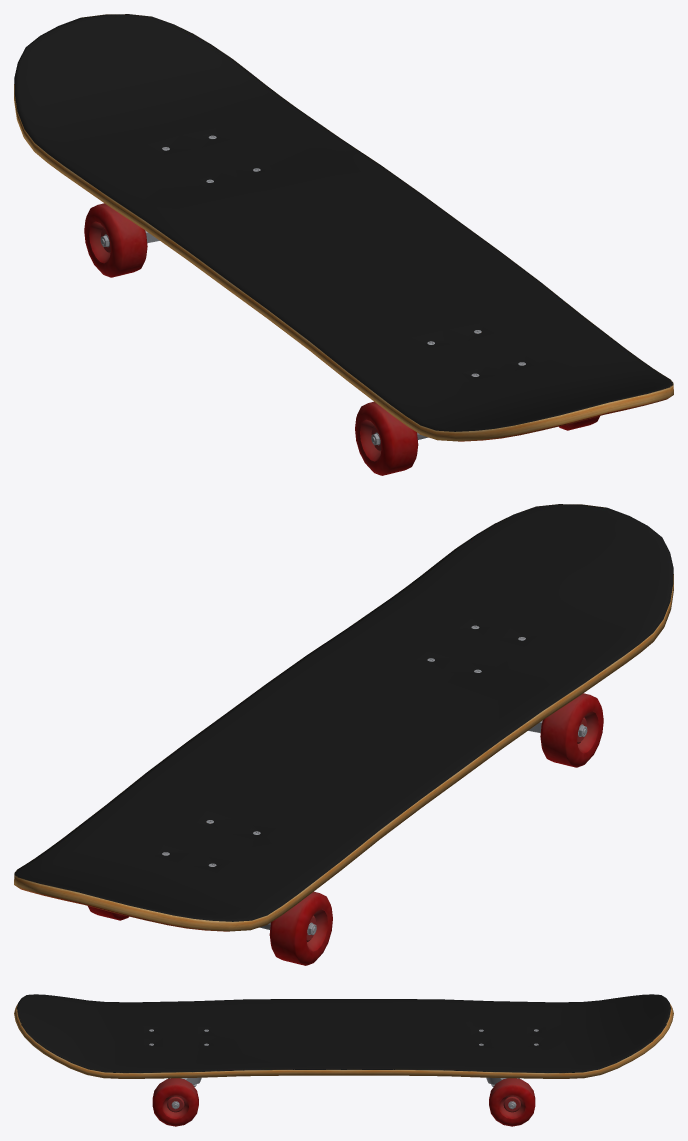
Rendered from skateboard.glb.
3 renders of one model, top to bottom at view 1: azimuth 30°, elevation 25°; view 2: azimuth 150°, elevation 25°; view 3: azimuth 270°, elevation 25°, orthographic. The views are drawn at different scales.
Visible parts, largest first — view 1: Object_33; view 2: Object_33; view 3: Object_33.
Part boxes in pixels (x1,y1,x2,y2): Object_33: (14,14,673,475); Object_33: (14,504,673,965); Object_33: (14,994,673,1126).
Size of the model in its own units: 0.3458 by 0.1954 by 1.36.
1 material, 1 textured.
